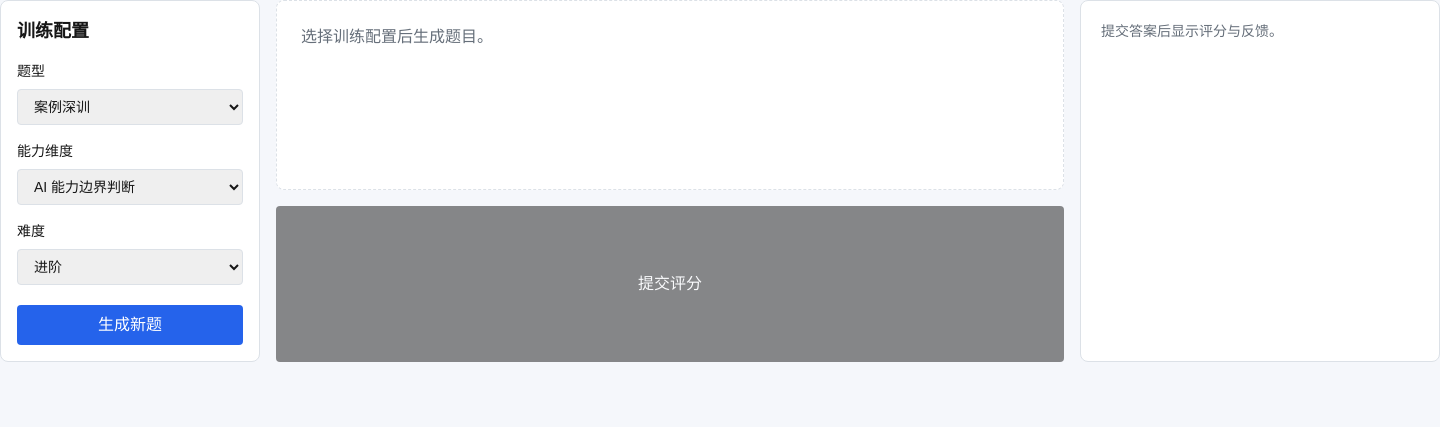
Test: TrainingWorkbench › shows a visible error when question generation fails
Click the button "生成新题". click: click(130, 325)
box: [17,305,243,345]
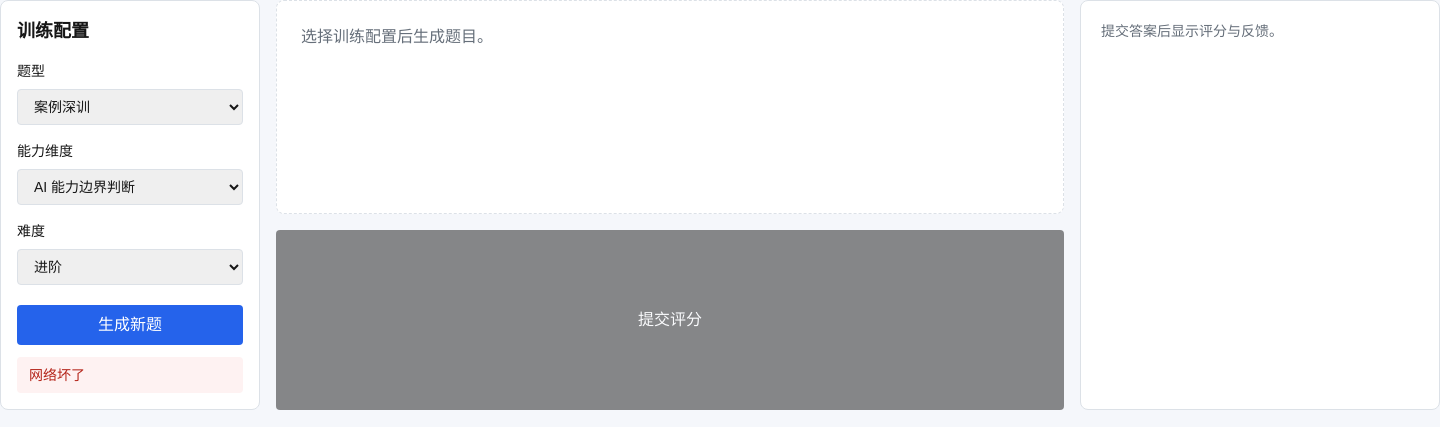
Result: the text "网络坏了" is shown at [17,357,243,393]
